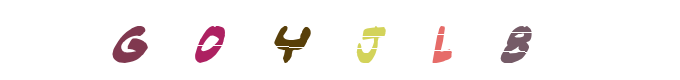0: (251, 0, 331, 80)
8: (340, 0, 420, 80)
G: (170, 0, 250, 80)
J: (301, 0, 381, 80)
L: (329, 0, 409, 80)
Y: (269, 0, 349, 80)
